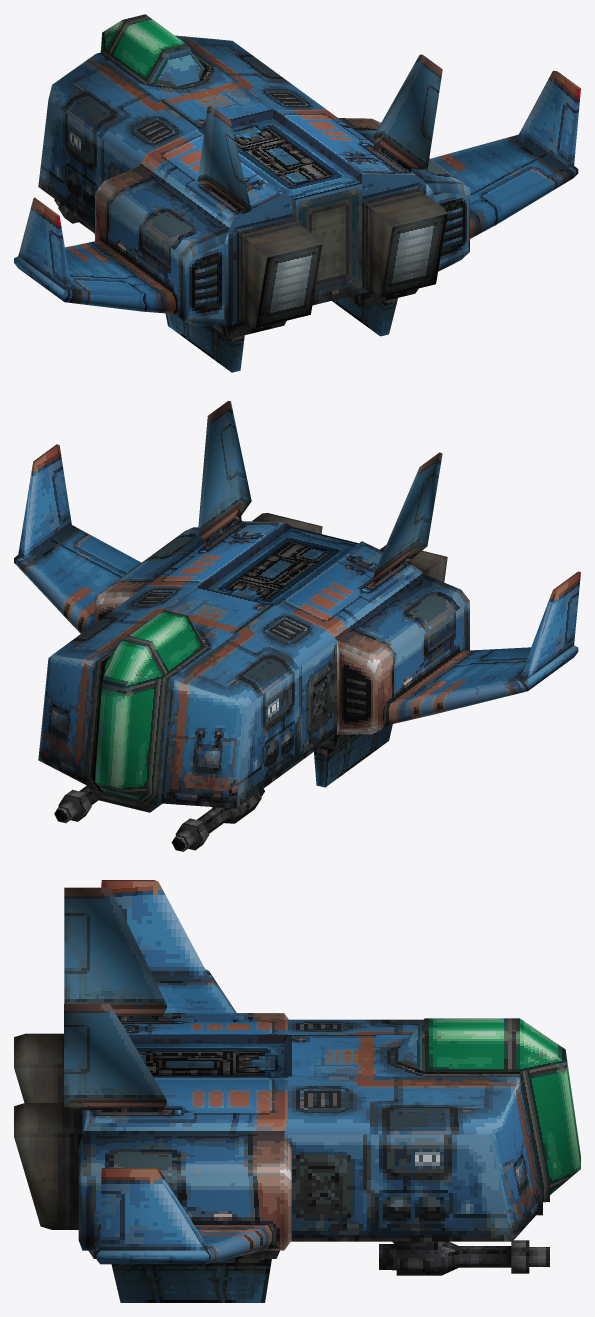
Rendered from snapdragon.gltf.
3 renders of one model, top to bottom at view 1: azimuth 30°, elevation 25°; view 2: azimuth 150°, elevation 25°; view 3: azimuth 270°, elevation 25°, orthographic. The views are drawn at different scales.
Parts seen in each view (by area): view 1: Object 1, Object 4, Object 3, Object 2; view 2: Object 1, Object 4, Object 3, Object 2; view 3: Object 1, Object 4, Object 2, Object 3.
Part boxes in pixels (x1,y1,x2,y2): Object 1: (14, 70, 580, 372); Object 4: (38, 14, 325, 234); Object 3: (373, 54, 442, 173); Object 2: (197, 106, 251, 214); Object 1: (14, 444, 580, 787); Object 4: (38, 586, 336, 851); Object 3: (198, 401, 251, 545); Object 2: (373, 452, 442, 585); Object 1: (14, 880, 291, 1302); Object 4: (284, 1018, 580, 1275); Object 2: (64, 887, 166, 1020); Object 3: (64, 1004, 166, 1112).
Size of the model in its own units: 415 by 209 by 343.
Materials: 18 (18 with a texture image).
